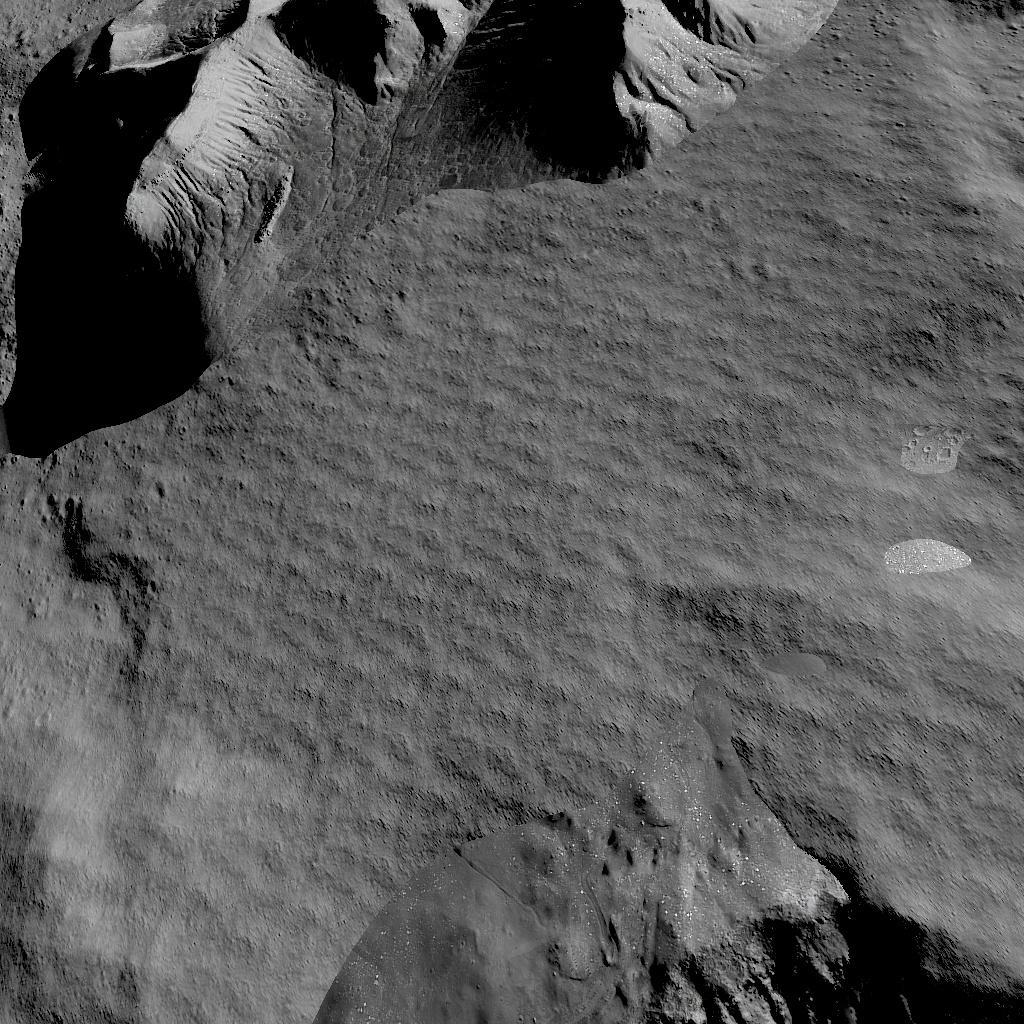Boulders: (0, 0, 835, 458)
Crater: (318, 825, 1024, 1024), (906, 0, 1024, 30)
Plan surface: (321, 470, 1024, 813), (0, 470, 306, 1024), (851, 40, 1024, 458)
